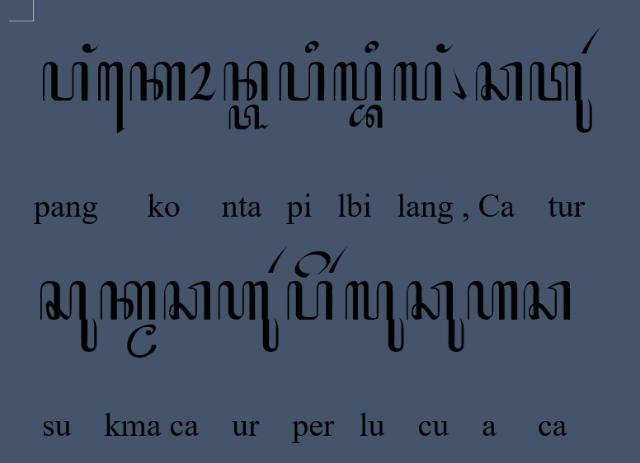_b: (348, 102, 384, 130)
_m: (126, 322, 158, 360)
_r1: (266, 243, 288, 275), (327, 245, 349, 275), (579, 27, 601, 55)
_t: (226, 103, 272, 131)
c: (162, 280, 212, 322), (522, 280, 572, 322), (475, 60, 523, 102)
cu: (404, 280, 466, 354)
e: (292, 250, 332, 278)
e1: (96, 61, 125, 135)
h: (466, 281, 518, 323)
hu: (217, 280, 280, 354)
i: (304, 38, 320, 56), (364, 40, 380, 54)
k: (128, 61, 188, 103), (100, 281, 158, 322)
kom: (448, 68, 468, 102)
l: (332, 61, 383, 103), (392, 61, 443, 103)
lu: (342, 278, 406, 354)
n: (222, 60, 270, 104)
ng: (434, 42, 454, 54), (82, 42, 100, 54)
o: (188, 62, 216, 102)
p: (40, 61, 90, 103), (277, 61, 327, 103), (286, 280, 334, 322)
su: (40, 280, 98, 354)
tu: (528, 60, 594, 134)
